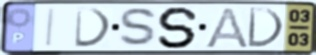A: (202, 6, 251, 50)
D: (73, 6, 115, 49), (245, 6, 286, 49)
I: (43, 7, 58, 49)
S: (156, 5, 202, 50), (117, 6, 161, 49)
